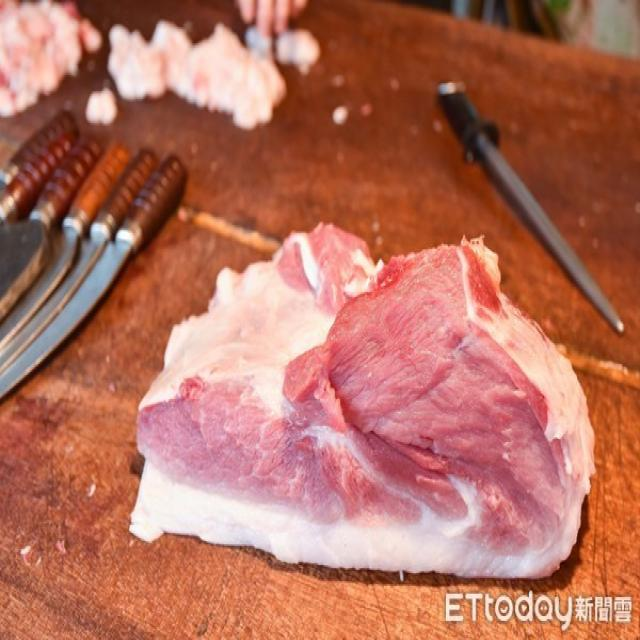pork: (122, 217, 603, 568)
